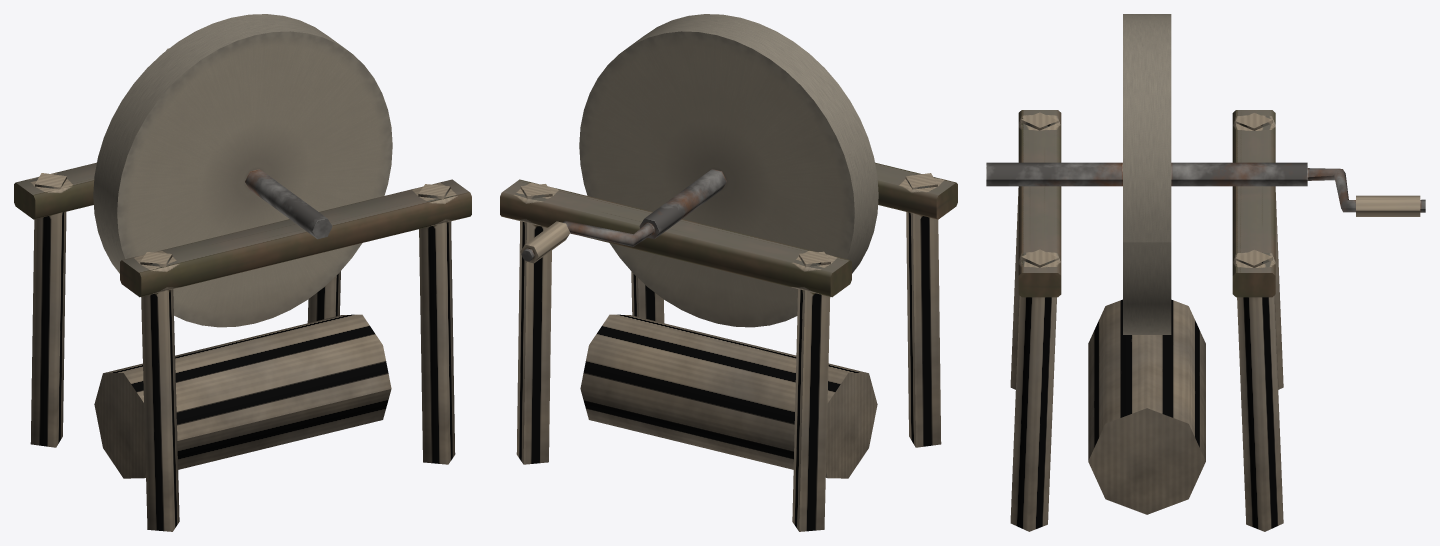
File: SM_Camp_Grindstone.fbx
3 views of the same model, side by side, from view 1: azimuth 30°, elevation 25°; view 2: azimuth 150°, elevation 25°; view 3: azimuth 270°, elevation 25° (orthographic).
Visible parts, largest first — view 1: SM_Camp_Grindstone; view 2: SM_Camp_Grindstone; view 3: SM_Camp_Grindstone.
Boxes of the visible parts, left/top/right/bottom form: SM_Camp_Grindstone: left=14, top=14, right=471, bottom=531; SM_Camp_Grindstone: left=500, top=14, right=957, bottom=531; SM_Camp_Grindstone: left=986, top=14, right=1425, bottom=531.
Size of the model in its own units: 72 by 82 by 88.13.
